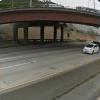Bridge: (1, 4, 100, 35)
